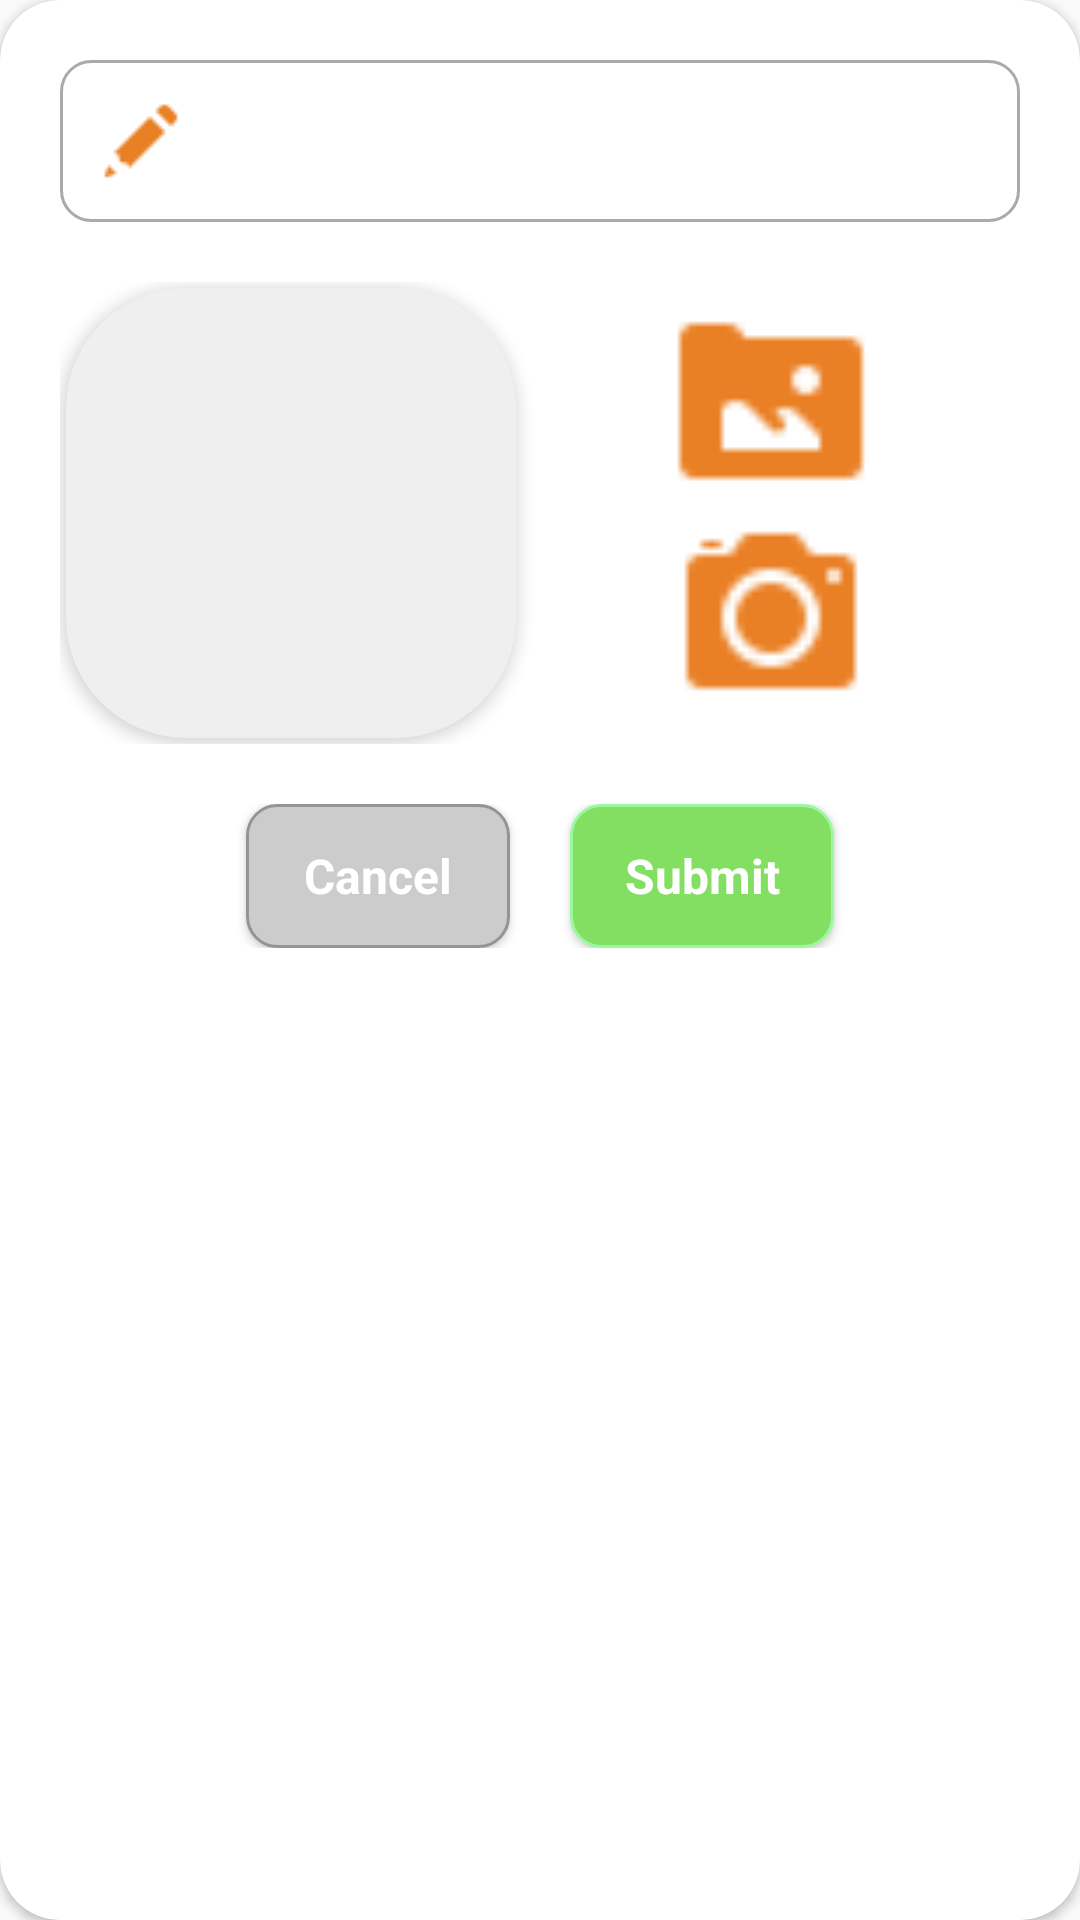

Icon click points for this 1080 × 1920 phone screenshot, format (x=x, y=y):
camera: (x=771, y=611)
folder: (x=771, y=401)
